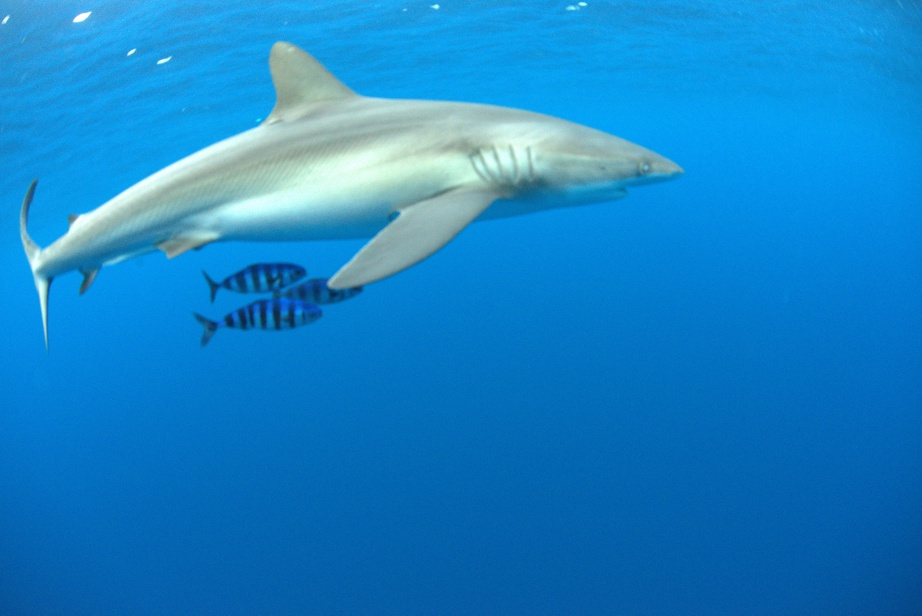Sedoso: (9, 37, 712, 354)
